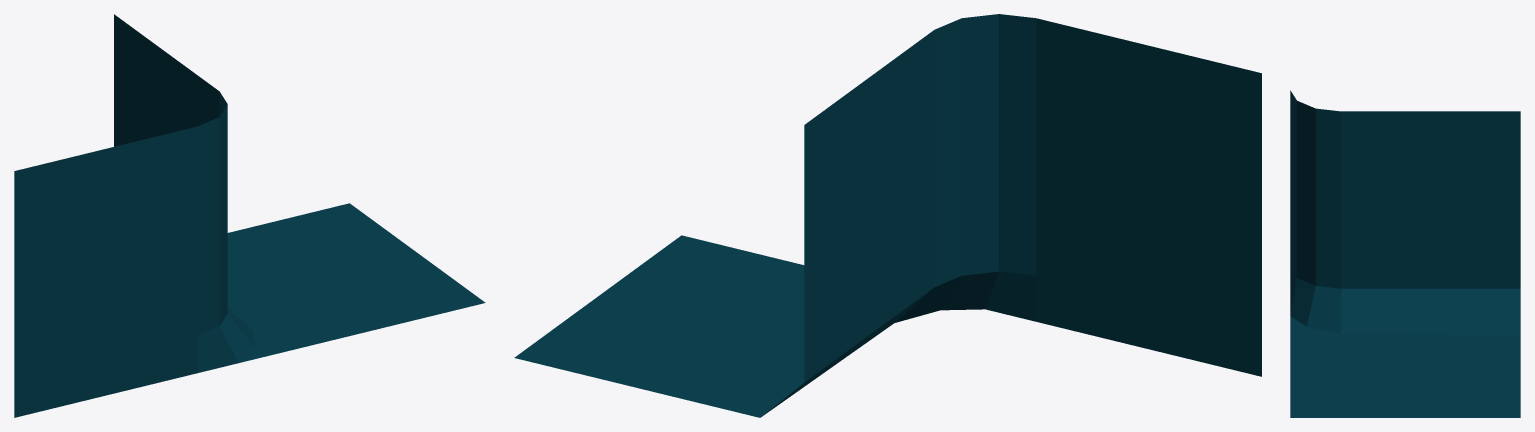
File: MB_Corner_Ceiling_Inner_L.fbx
The picture shows the model from 3 angles, left to right: view 1: azimuth 30°, elevation 25°; view 2: azimuth 150°, elevation 25°; view 3: azimuth 270°, elevation 25°; orthographic projection. The views are drawn at different scales.
Parts seen in each view (by area): view 1: MB_Corner_Ceiling_Inner_L; view 2: MB_Corner_Ceiling_Inner_L; view 3: MB_Corner_Ceiling_Inner_L.
Boxes of the visible parts, left/top/right/bottom form: MB_Corner_Ceiling_Inner_L: left=14, top=14, right=485, bottom=417; MB_Corner_Ceiling_Inner_L: left=514, top=14, right=1261, bottom=417; MB_Corner_Ceiling_Inner_L: left=1290, top=90, right=1520, bottom=417.
Size of the model in its own units: 400 by 200 by 200.
